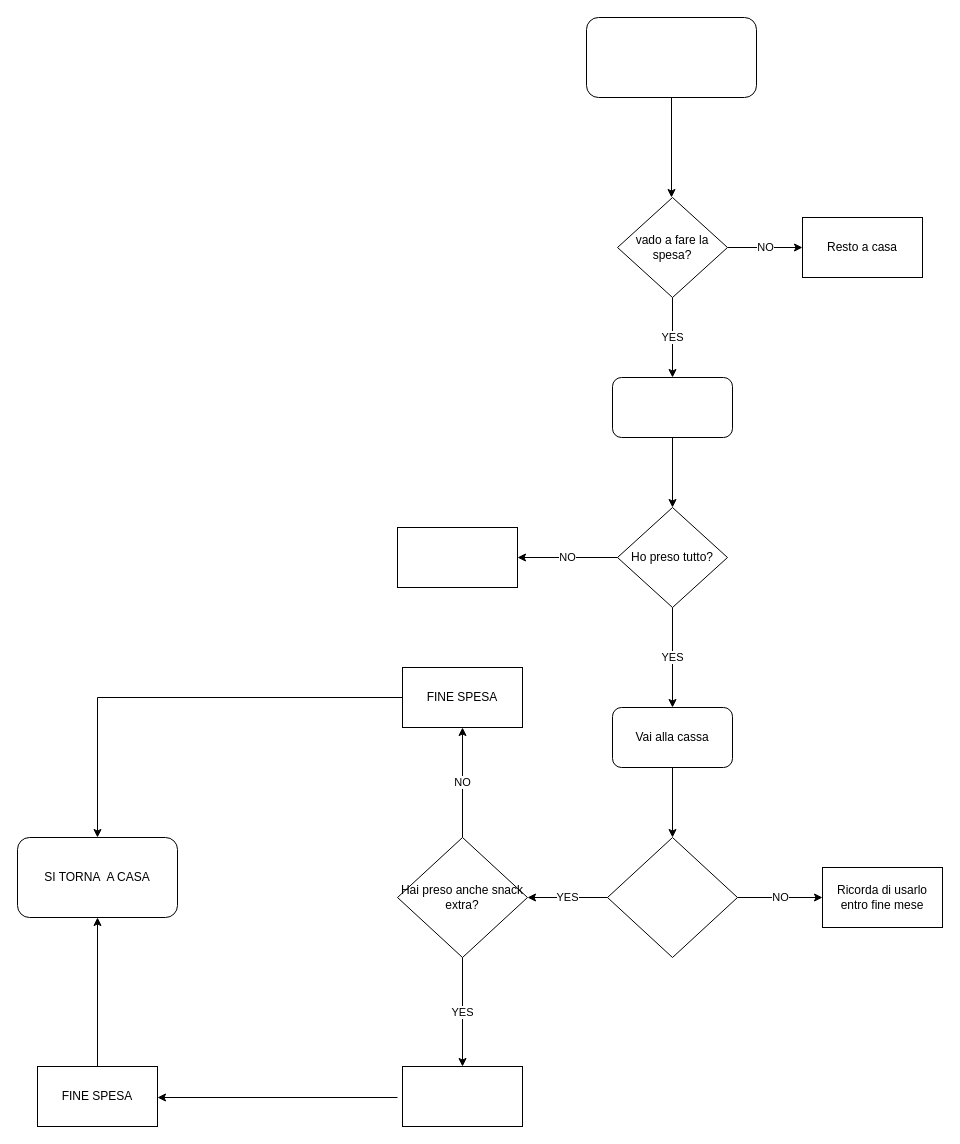
Some shapes in this 960 by 1144 pixel diagram are drawn without their labels. Here are the shapes that lost their labels. From the top down, the box of each, then its label:
(586, 16, 756, 98): IL FRIGO E' VUOTO
(612, 376, 732, 438): Preparo una lista, incluse le crocchette
(396, 526, 518, 588): Ricontrolla meglio tra gli scaffali
(606, 836, 738, 958): Hai usato per pagare il coupon?
(402, 1066, 522, 1126): Paga il resto con i contanti rimanenti
